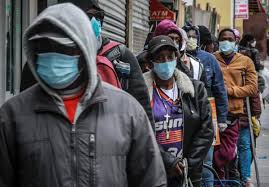mask: (36, 31, 82, 94), (85, 1, 109, 47), (153, 48, 177, 83), (215, 27, 236, 56), (186, 27, 199, 51), (245, 33, 257, 48)
